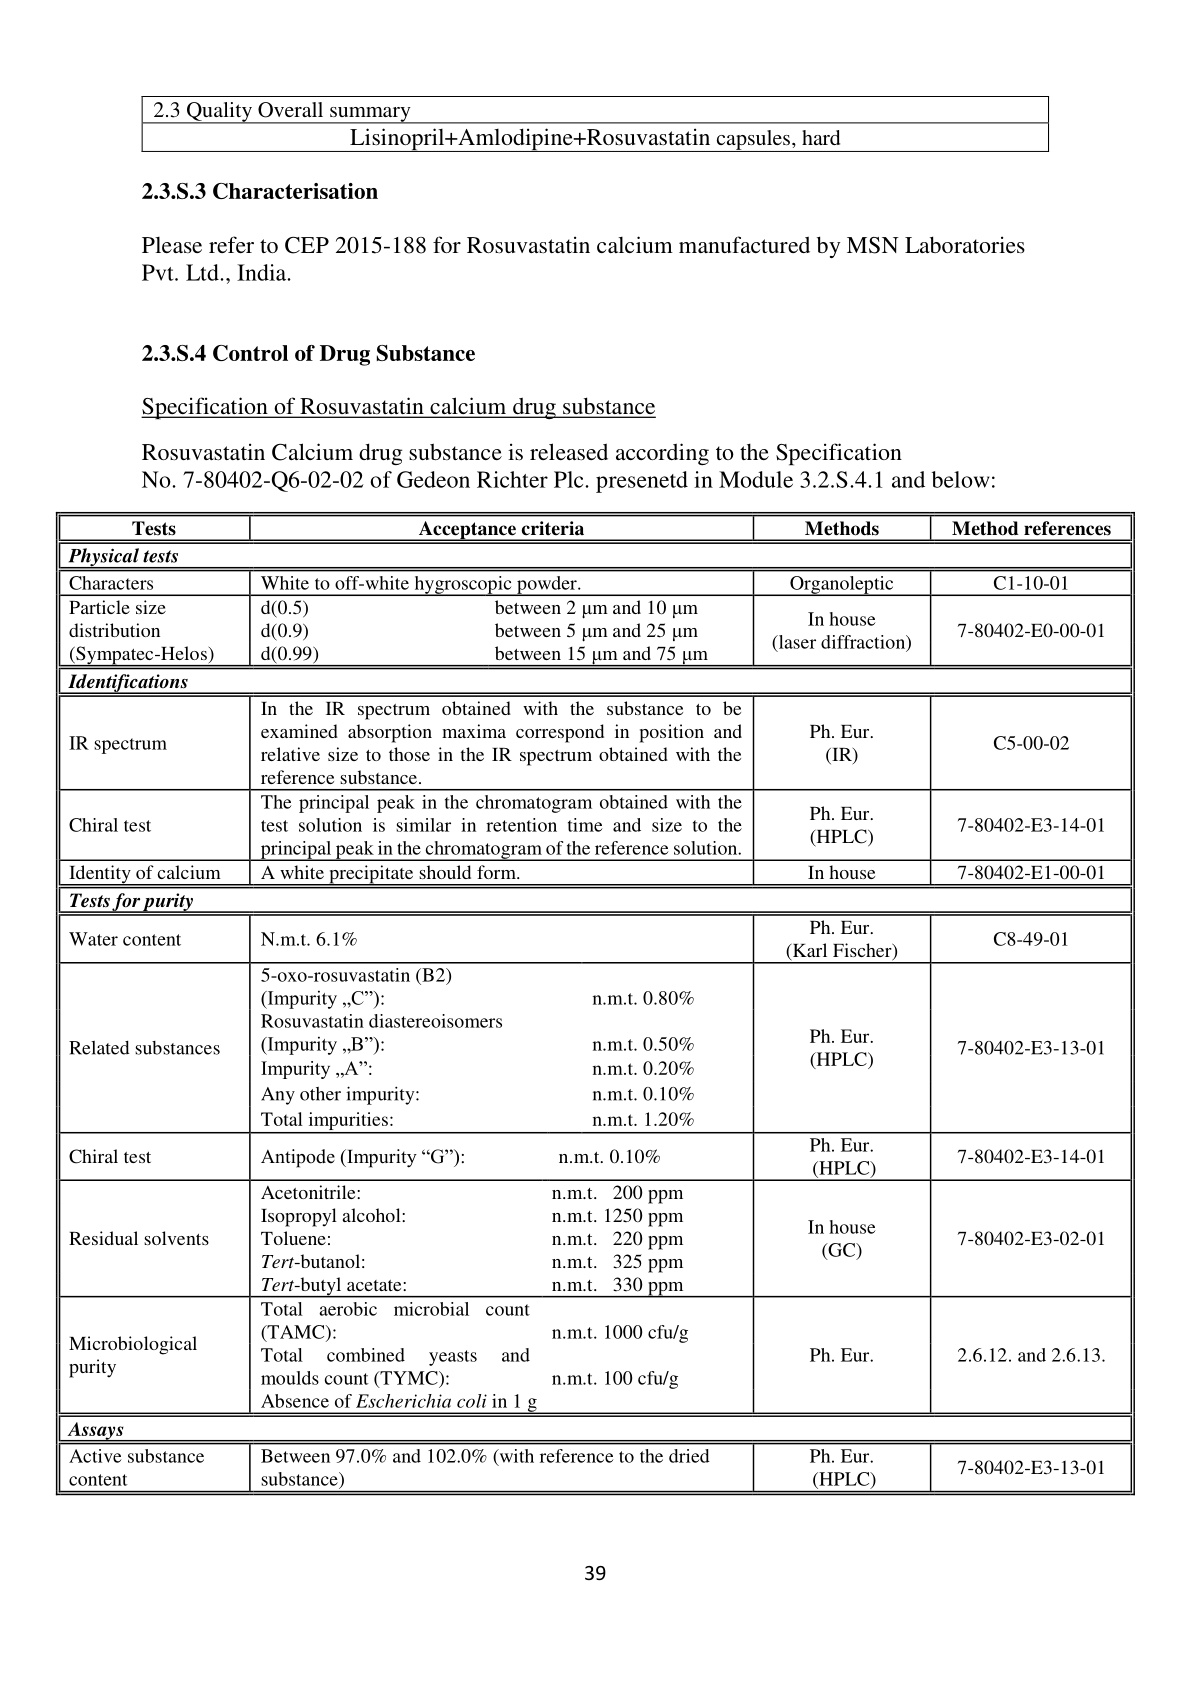full_lined: (140, 95, 1051, 153)
merged_cells: (55, 512, 1136, 1496)
